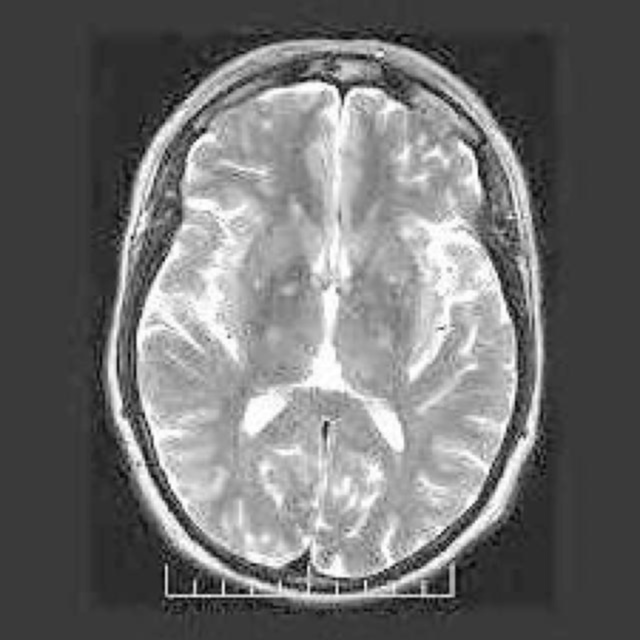glioma tumor: (190, 128, 447, 515)
